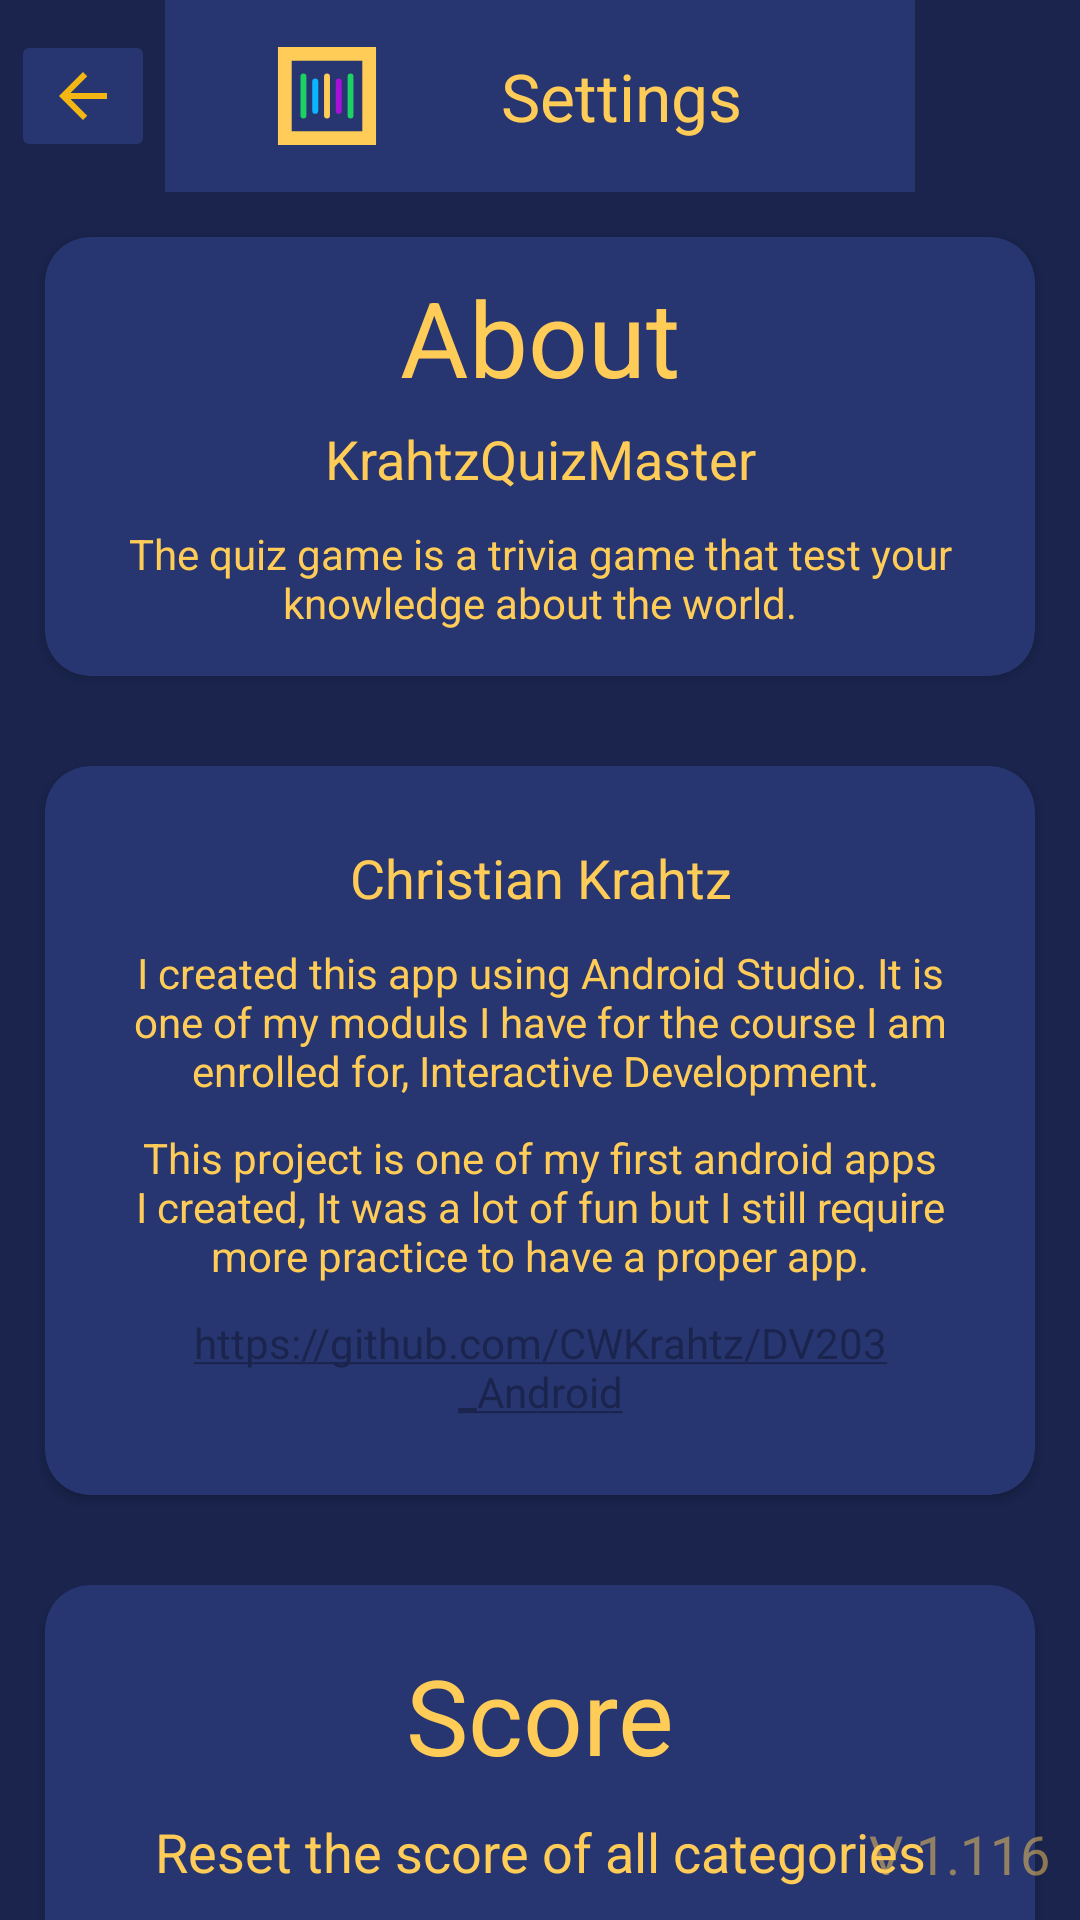

Icons on this 1080px x 1920px Android screen, each with its box as bbox=[x1, y1, x2, y2]:
arrow back: bbox=[23, 48, 143, 144]
